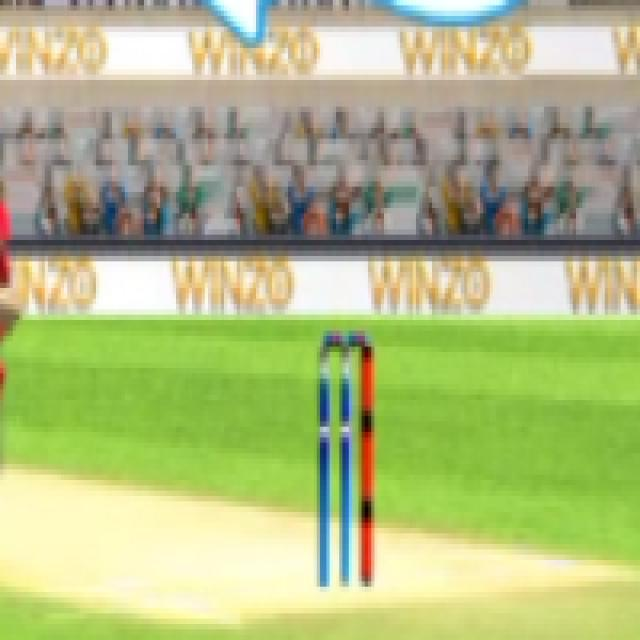stumps: (307, 321, 375, 593)
